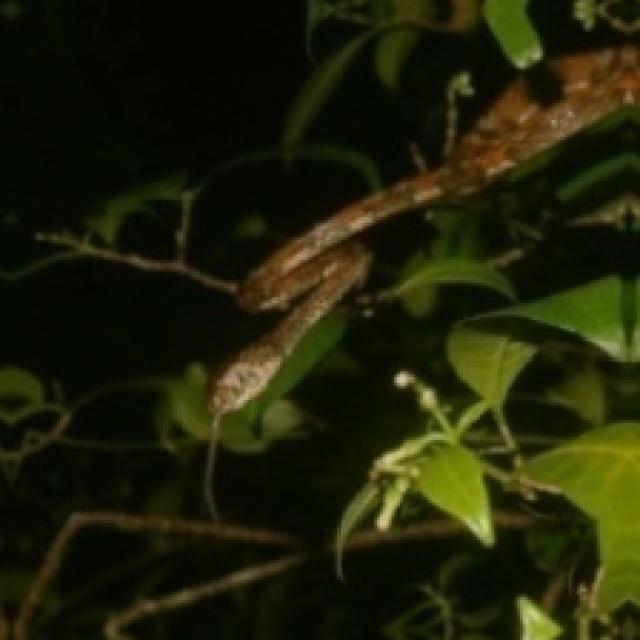philippine blunt-headed catsnake: (209, 46, 637, 414)
